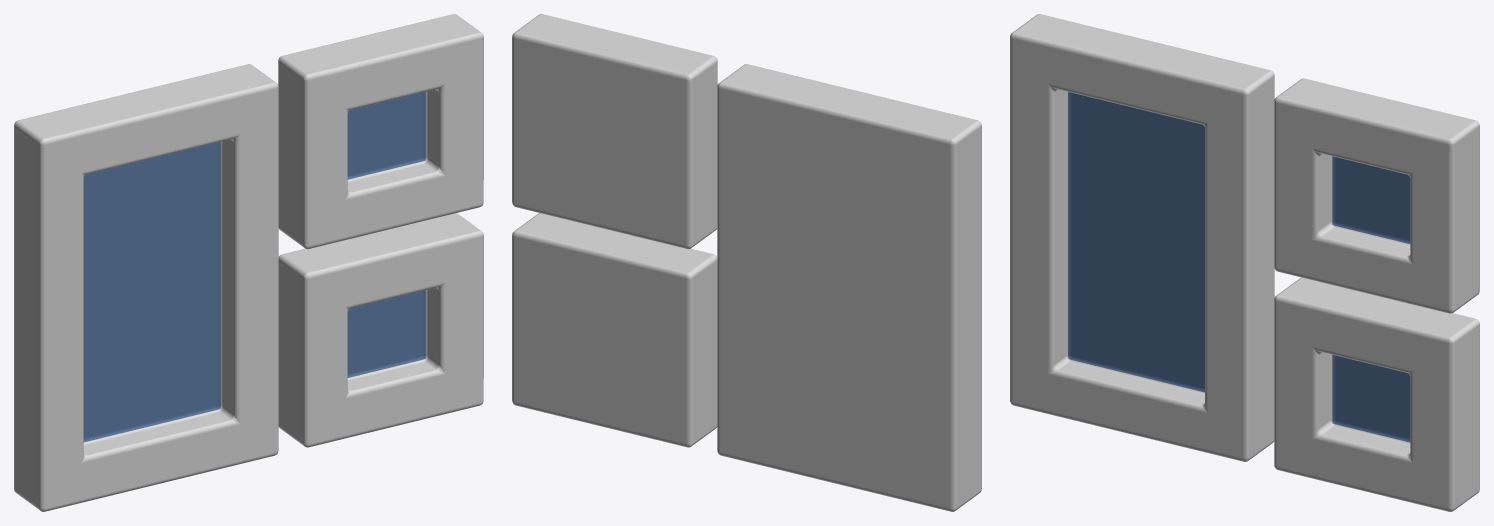
The model's file is frames.glb.
3 renders of one model, left to right at view 1: azimuth 30°, elevation 25°; view 2: azimuth 150°, elevation 25°; view 3: azimuth 330°, elevation 25°, orthographic.
Parts seen in each view (by area): view 1: frames; view 2: frames; view 3: frames.
Part boxes in pixels (box(x1,y1,x2,y2)): frames: box(14, 14, 483, 511); frames: box(512, 14, 981, 511); frames: box(1010, 14, 1479, 511).
Size of the model in its own units: 0.9334 by 0.7493 by 0.1049.
